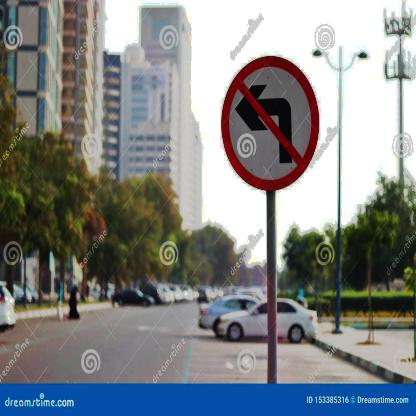No left turn: (219, 52, 324, 197)
